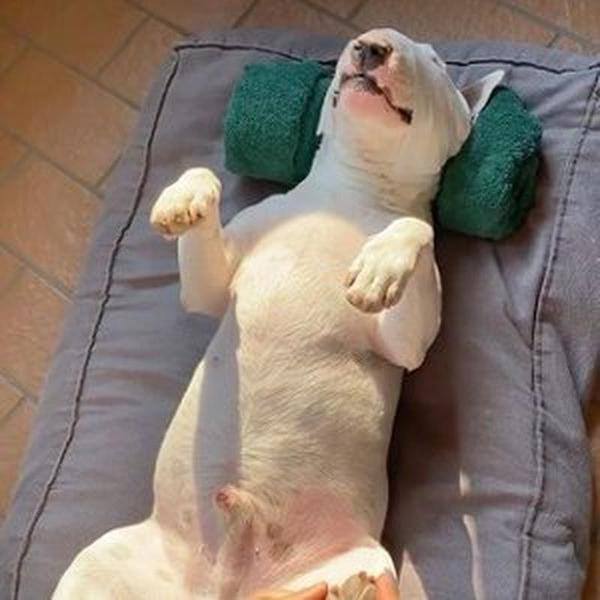allqu: (53, 16, 518, 567)
